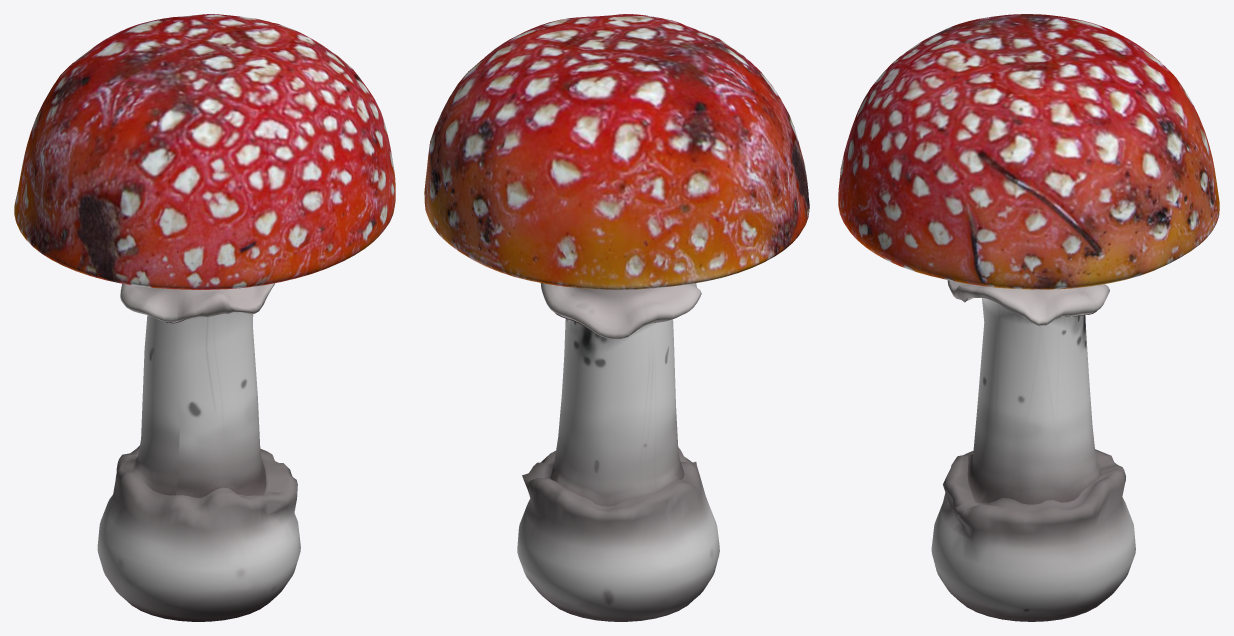
Rendered from SENE_06.fbx.
3 renders of one model, left to right at view 1: azimuth 30°, elevation 25°; view 2: azimuth 150°, elevation 25°; view 3: azimuth 270°, elevation 25°, orthographic.
Visible parts, largest first — view 1: SENE_05; view 2: SENE_05; view 3: SENE_05.
Boxes of the visible parts, bbox=[...] form: SENE_05: bbox=[14, 14, 395, 621]; SENE_05: bbox=[424, 14, 809, 621]; SENE_05: bbox=[838, 14, 1219, 621].
Bounding box in the file's own units: 40.67 × 64.26 × 40.
Materials: 1 (1 with a texture image).
